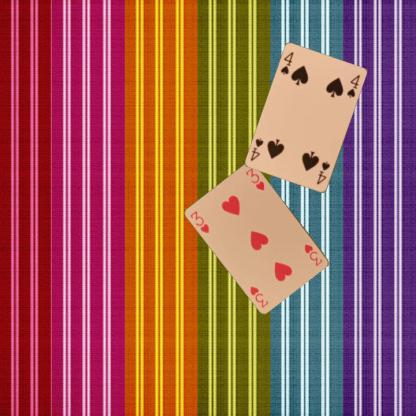3h: (188, 209, 211, 235), (302, 241, 324, 267)
4s: (314, 159, 331, 186), (278, 50, 295, 76)
